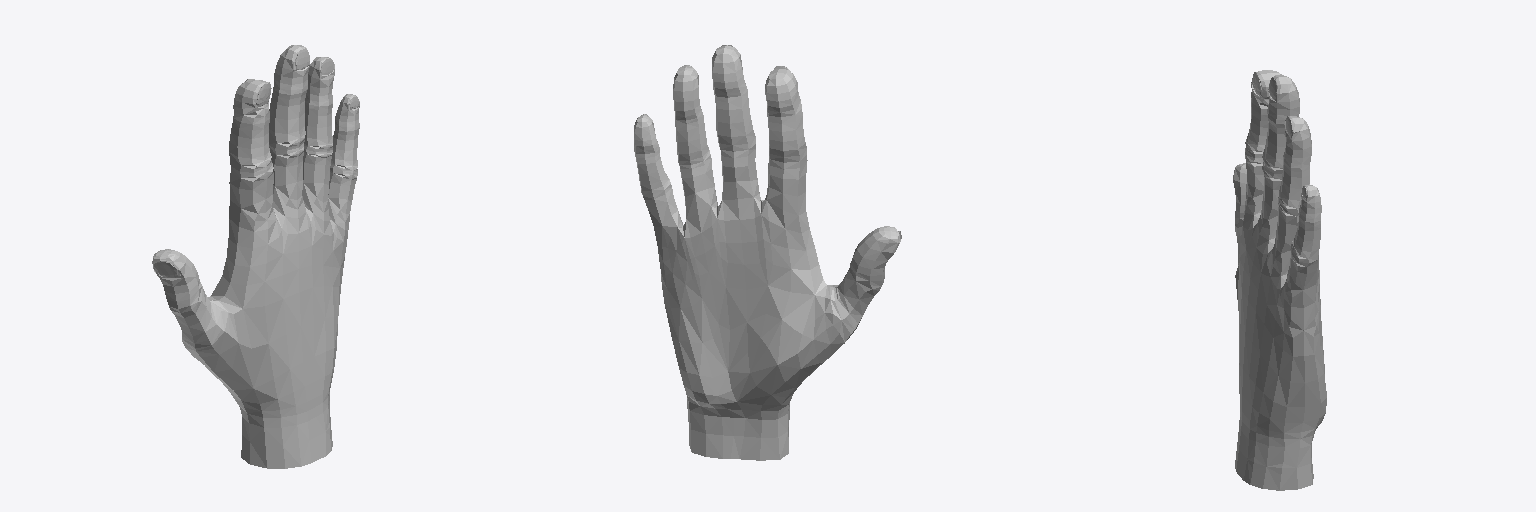
The model's file is Hand.obj.
The picture shows the model from 3 angles: view 1: azimuth 30°, elevation 25°; view 2: azimuth 150°, elevation 25°; view 3: azimuth 270°, elevation 25°; orthographic projection.
Size of the model in its own units: 22.32 by 36.27 by 7.78.